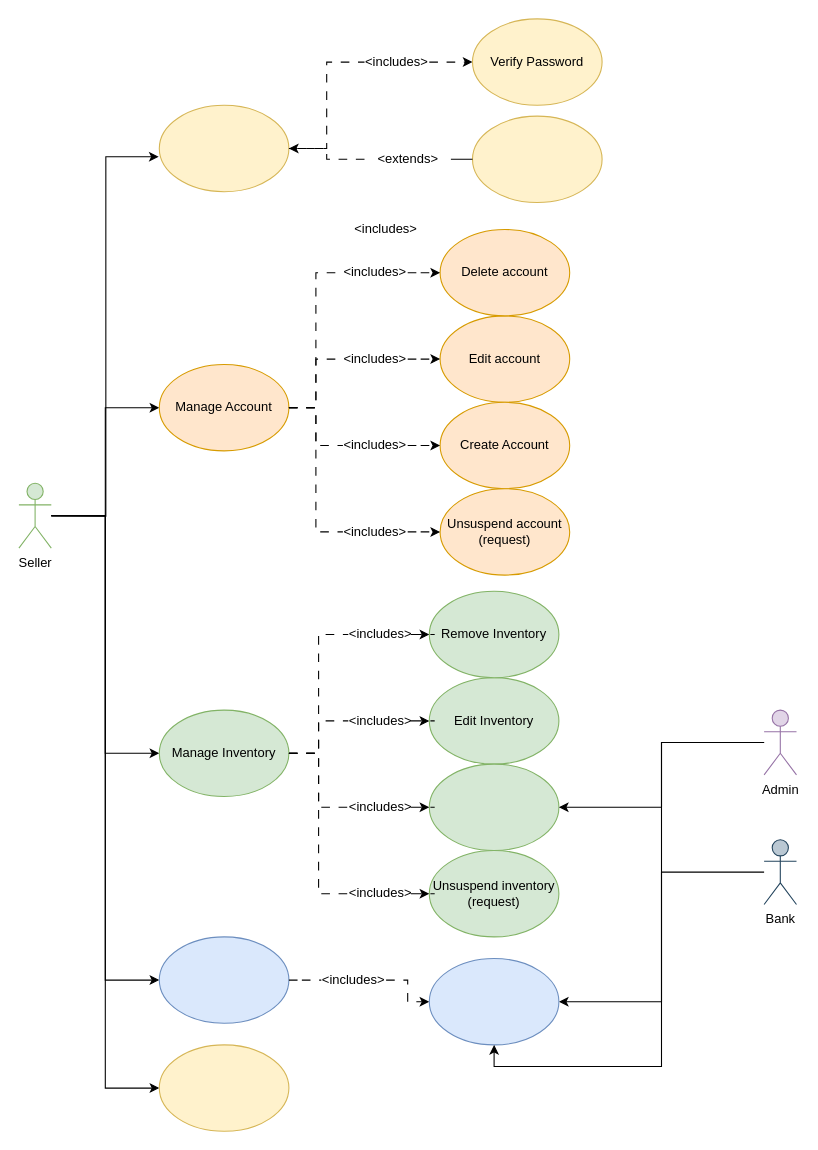
Image size: 818x1150. Some labels were removed from this diagram. The shapes that lost their labels are listed below. From the top down, each one's centre as x and y in pixels, then its label:
(x=223, y=148): Login
(x=536, y=158): Display Login Error
(x=493, y=806): Add inventory
(x=223, y=979): Withdraw profits
(x=493, y=1001): Verify withdrawl
(x=223, y=1087): Logout
